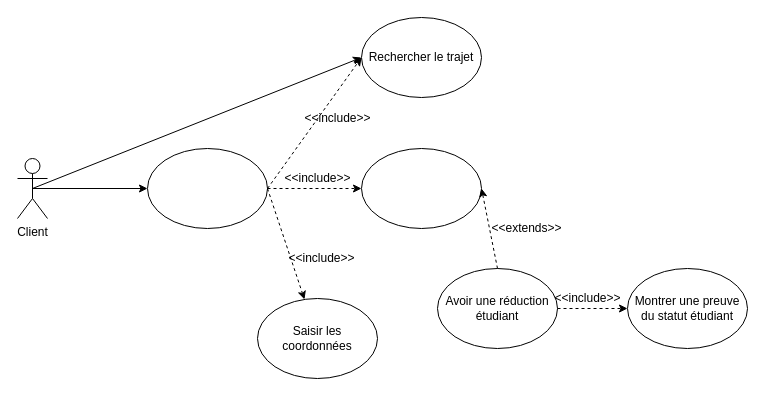
Image size: 765x396. Some labels were removed from this diagram. The shapes that lost their labels are listed below. From the top down, each one's centre as x and y in pixels, then its label:
At pixel 207 188: "Réserver billet de train".
At pixel 421 188: "Payer".
